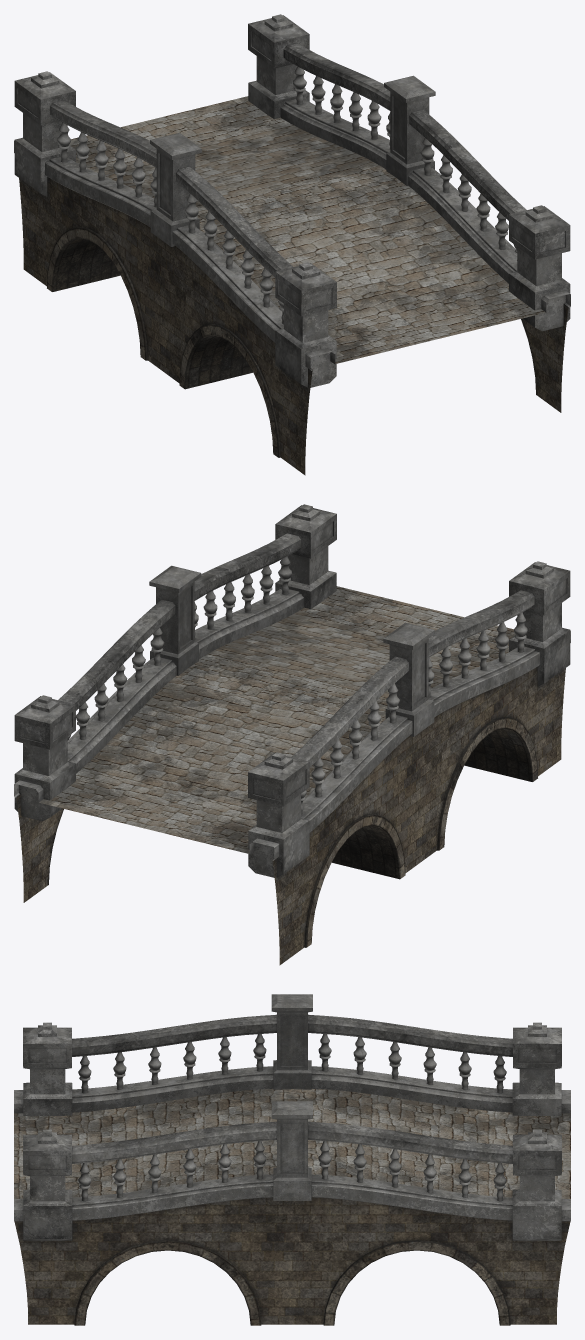
File: Bridge0.glb
3 renders of one model, top to bottom at view 1: azimuth 30°, elevation 25°; view 2: azimuth 150°, elevation 25°; view 3: azimuth 270°, elevation 25°, orthographic. The views are drawn at different scales.
Visible parts, largest first — view 1: Object_4; view 2: Object_4; view 3: Object_4.
Boxes of the visible parts, left/top/right/bottom form: Object_4: left=14, top=14, right=570, bottom=475; Object_4: left=14, top=504, right=570, bottom=965; Object_4: left=14, top=994, right=570, bottom=1325.
Bounding box in the file's own units: 5.35 × 4.33 × 10.22.
Materials: 2 (2 with a texture image).
